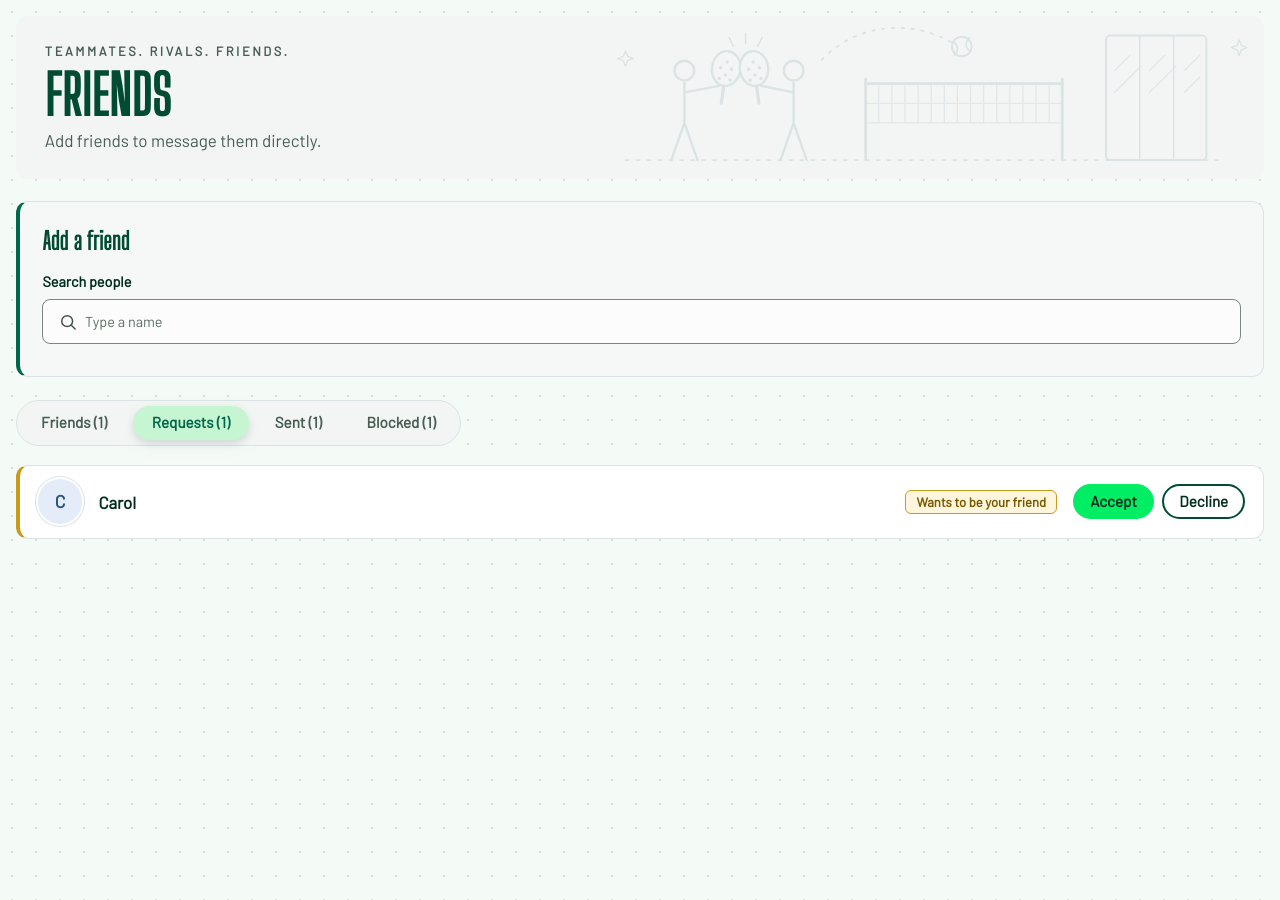
Test: friend UI actions and failure recovery › accepts a received request and removes it from the request tab
Click the button "Accept" at (1114, 502), box [1073, 484, 1154, 519]
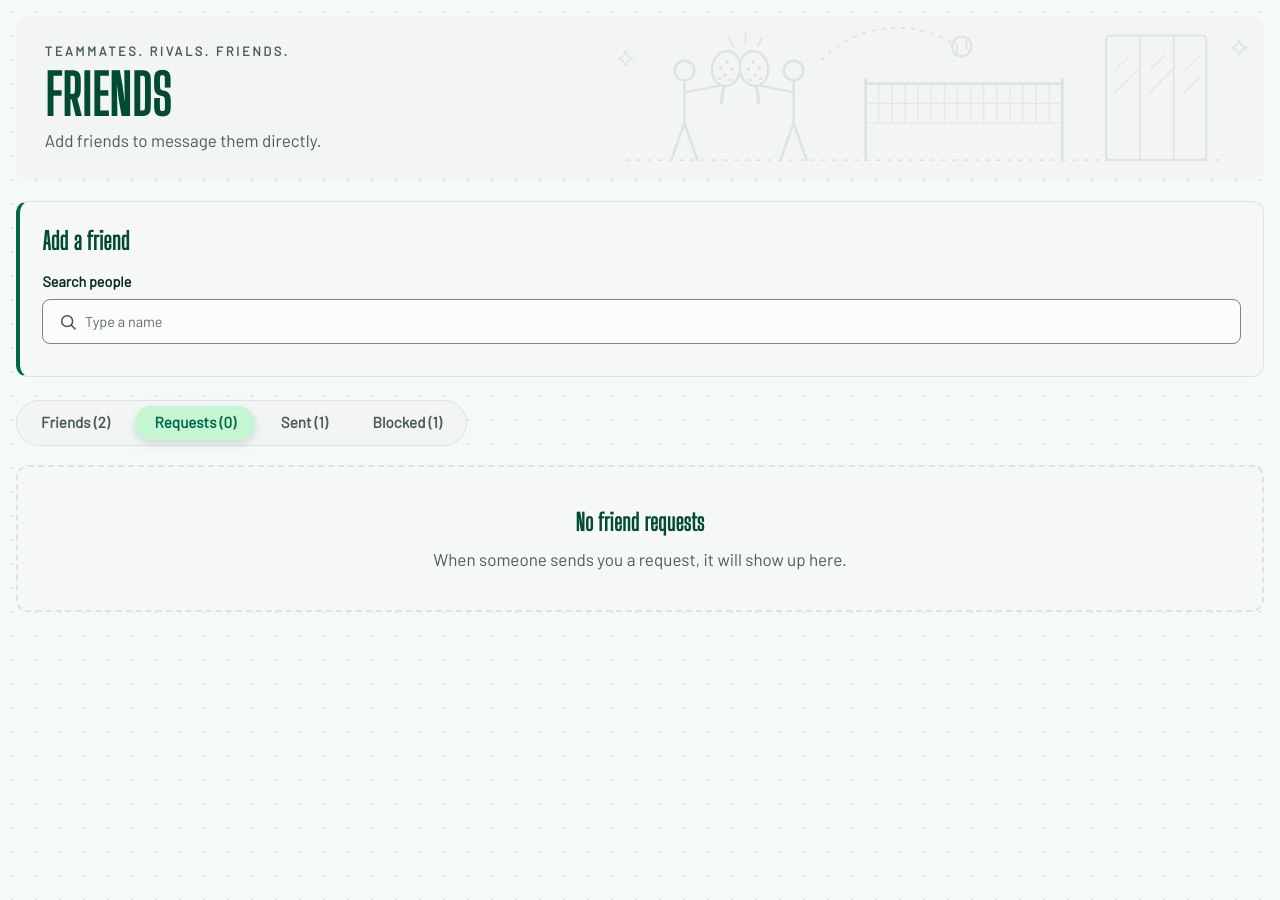
Check: the heading "No friend requests" is shown, box [576, 505, 704, 541]
